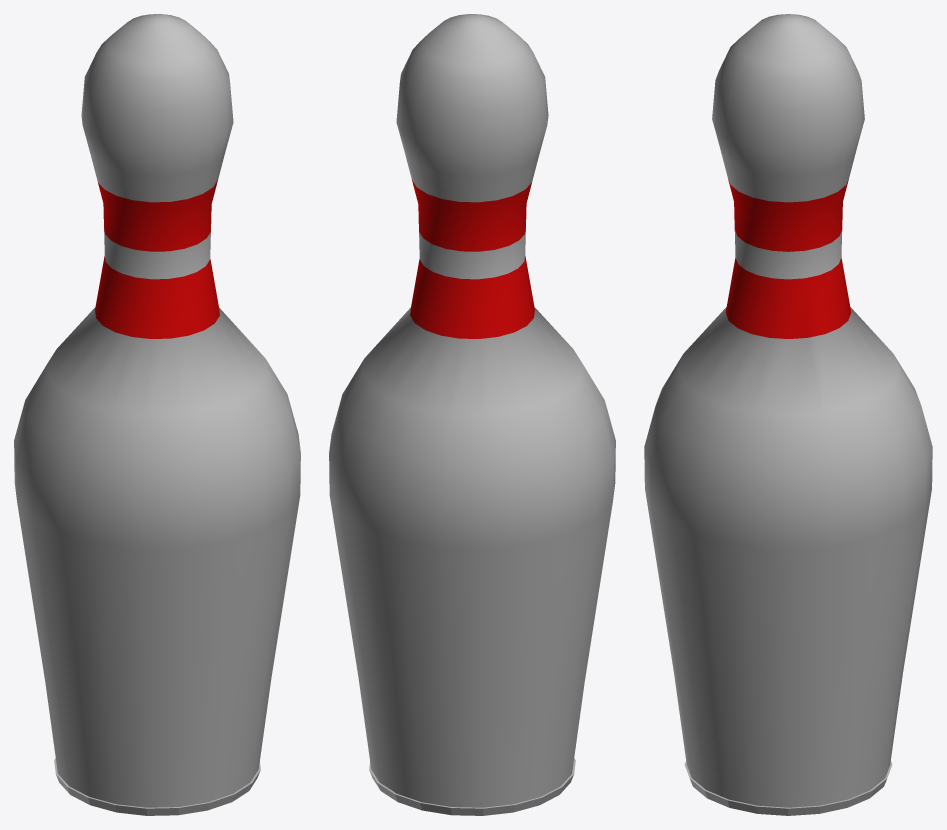
File: DM_BOLO.fbx
The picture shows the model from 3 angles, left to right: view 1: azimuth 30°, elevation 25°; view 2: azimuth 150°, elevation 25°; view 3: azimuth 270°, elevation 25°; orthographic projection.
Parts seen in each view (by area): view 1: Bolo; view 2: Bolo; view 3: Bolo.
Part boxes in pixels (x1,y1,x2,y2): Bolo: (14,14,300,815); Bolo: (329,14,615,815); Bolo: (644,14,932,815).
Bounding box in the file's own units: 2.12 × 6.13 × 2.12.
